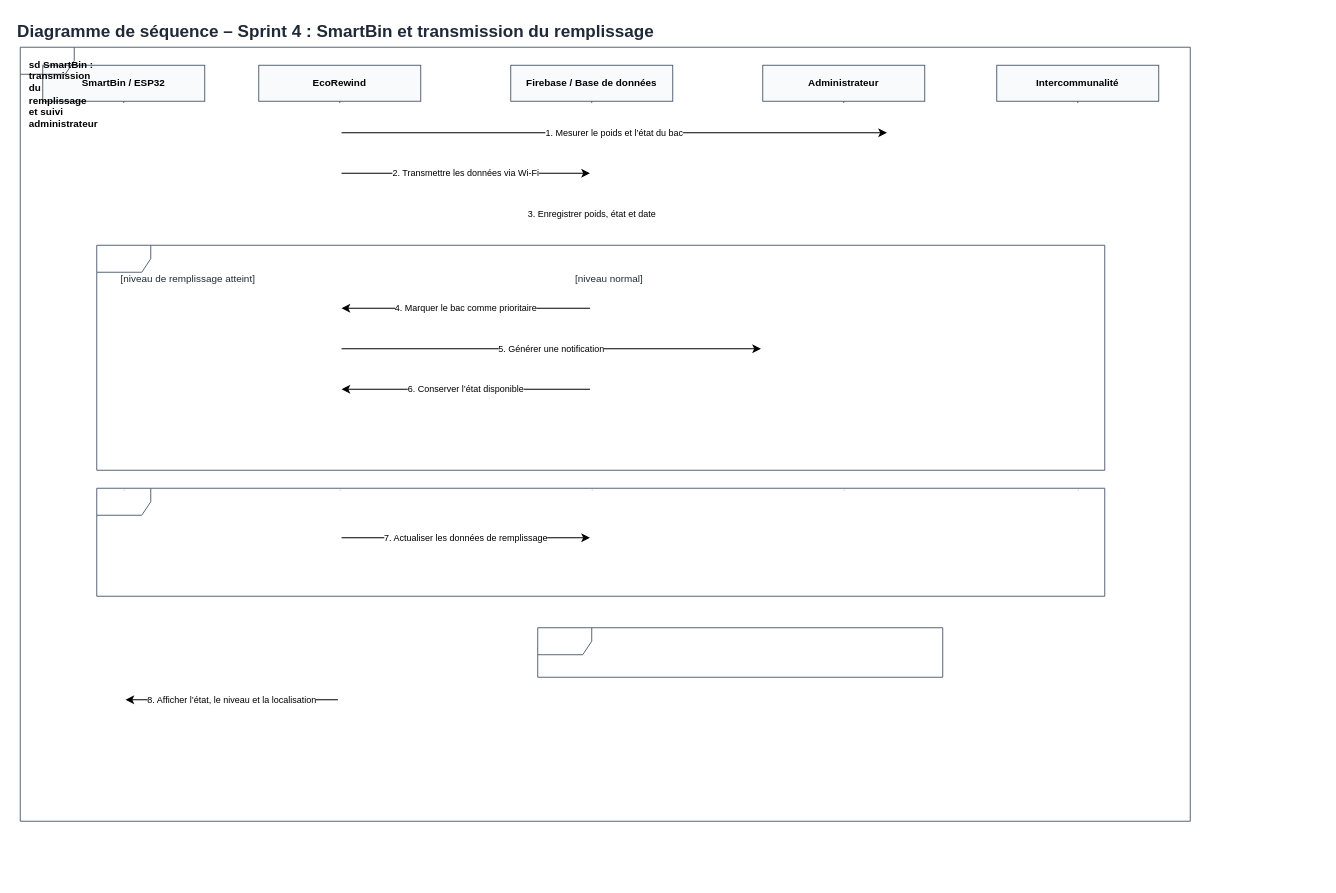
Image size: 1336x893. Some labels were removed from this diagram. The box of each missing label's shape, as (x1, y1, x2, y2) in pixels:
alt: (96, 244, 1105, 470)
loop [surveillance périodique]: (96, 487, 1105, 596)
ref Consultation des SmartBins par l’administrateur: (537, 627, 943, 677)
